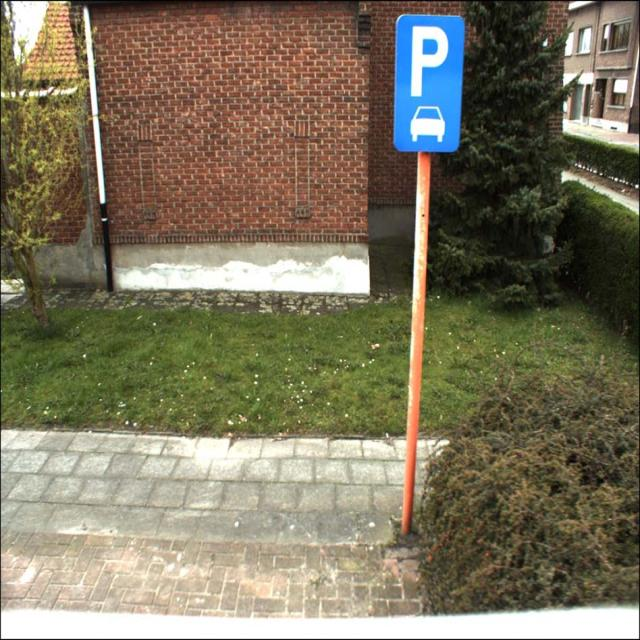park: (395, 14, 462, 100)
